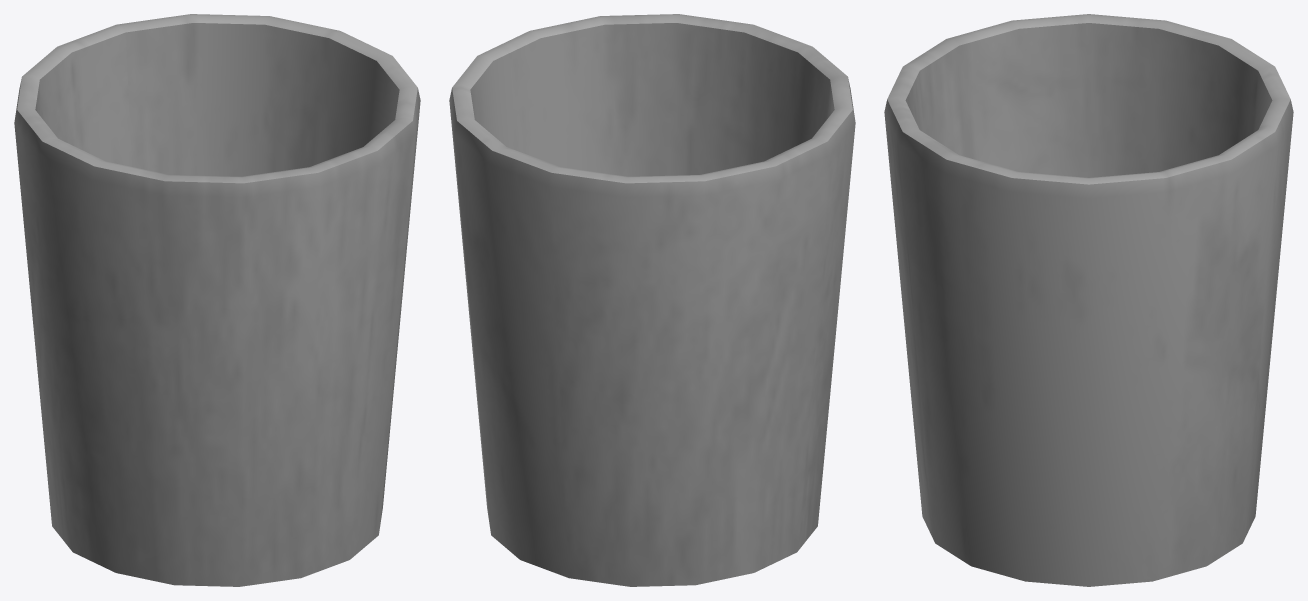
File: team trash 2.fbx
The picture shows the model from 3 angles, left to right: view 1: azimuth 30°, elevation 25°; view 2: azimuth 150°, elevation 25°; view 3: azimuth 270°, elevation 25°; orthographic projection.
Visible parts, largest first — view 1: trash_1; view 2: trash_1; view 3: trash_1.
Part boxes in pixels (x1,y1,x2,y2): trash_1: (14, 14, 420, 586); trash_1: (449, 14, 855, 586); trash_1: (884, 14, 1293, 586).
Size of the model in its own units: 222 by 250 by 222.
Materials: 1 (1 with a texture image).
